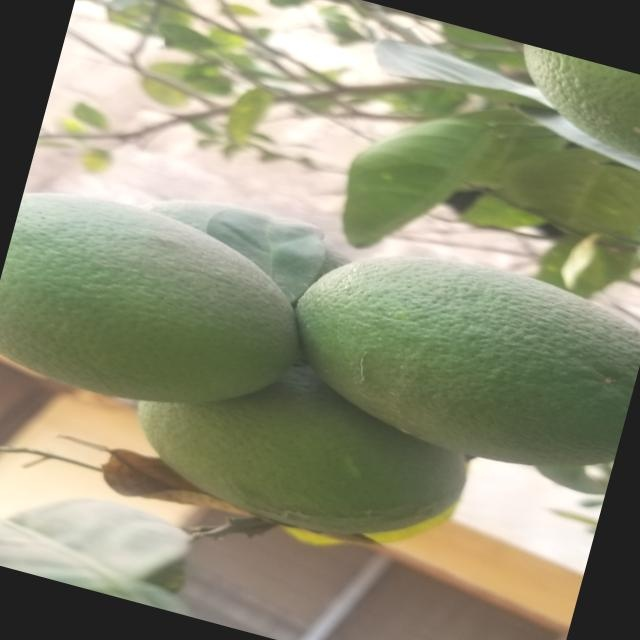agrume: (272, 218, 640, 487), (0, 161, 328, 448), (119, 338, 475, 562), (510, 47, 640, 173)
